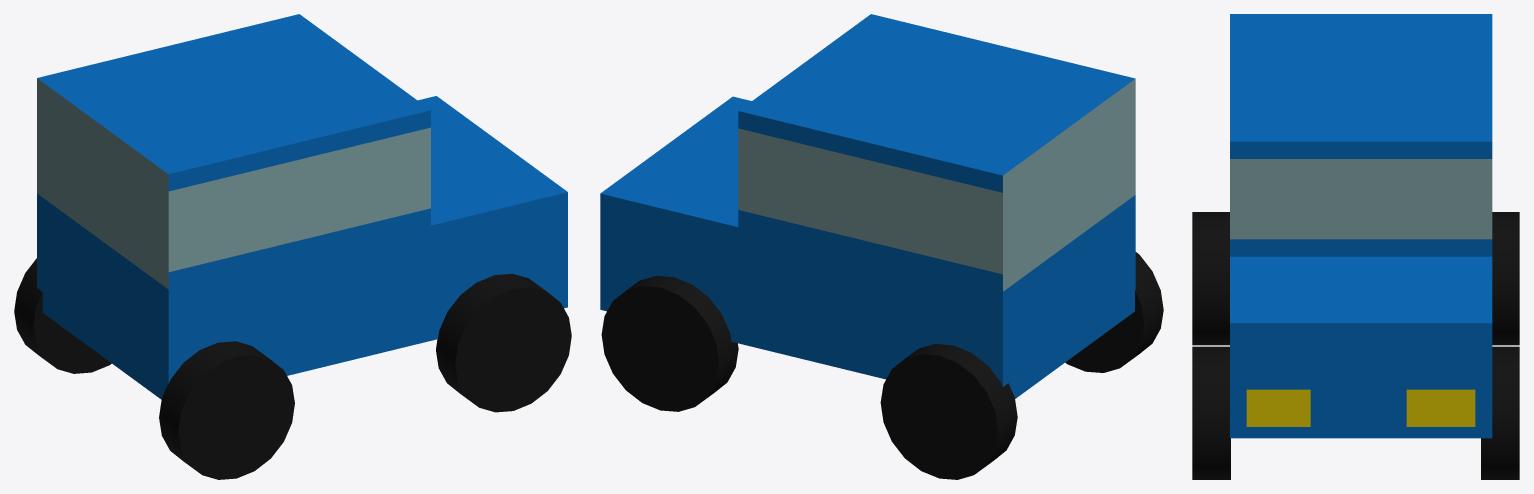
Rendered from Car1.fbx.
The picture shows the model from 3 angles, left to right: view 1: azimuth 30°, elevation 25°; view 2: azimuth 150°, elevation 25°; view 3: azimuth 270°, elevation 25°; orthographic projection.
Parts seen in each view (by area): view 1: Car1; view 2: Car1; view 3: Car1.
Boxes of the visible parts, box(x1,y1,x2,y2) form: Car1: box(14, 14, 571, 479); Car1: box(600, 14, 1163, 479); Car1: box(1192, 14, 1519, 479).
Bounding box in the file's own units: 5.35 × 3.79 × 3.73.
